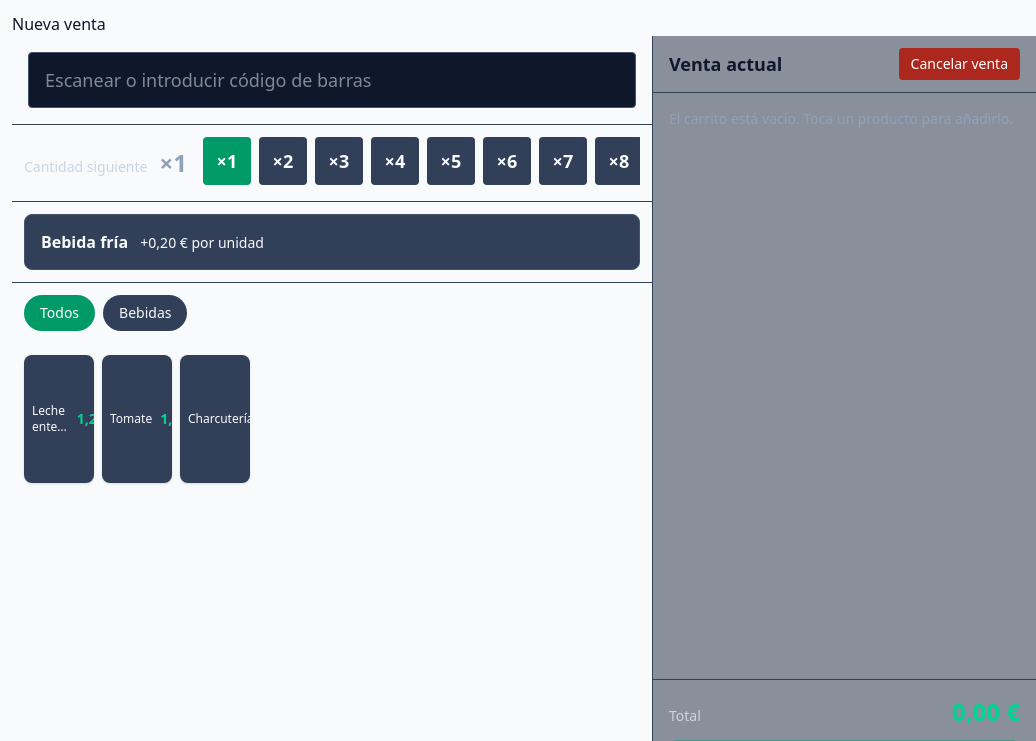
Test: PosHomePage › adds the configured cold-drink charge to the next selected item only
What coordinates should you click on to do the following:
click the button "Bebida fría +0,20 € por unidad"
I would click on:
 (85, 242)
Its box is [24,214,640,270].
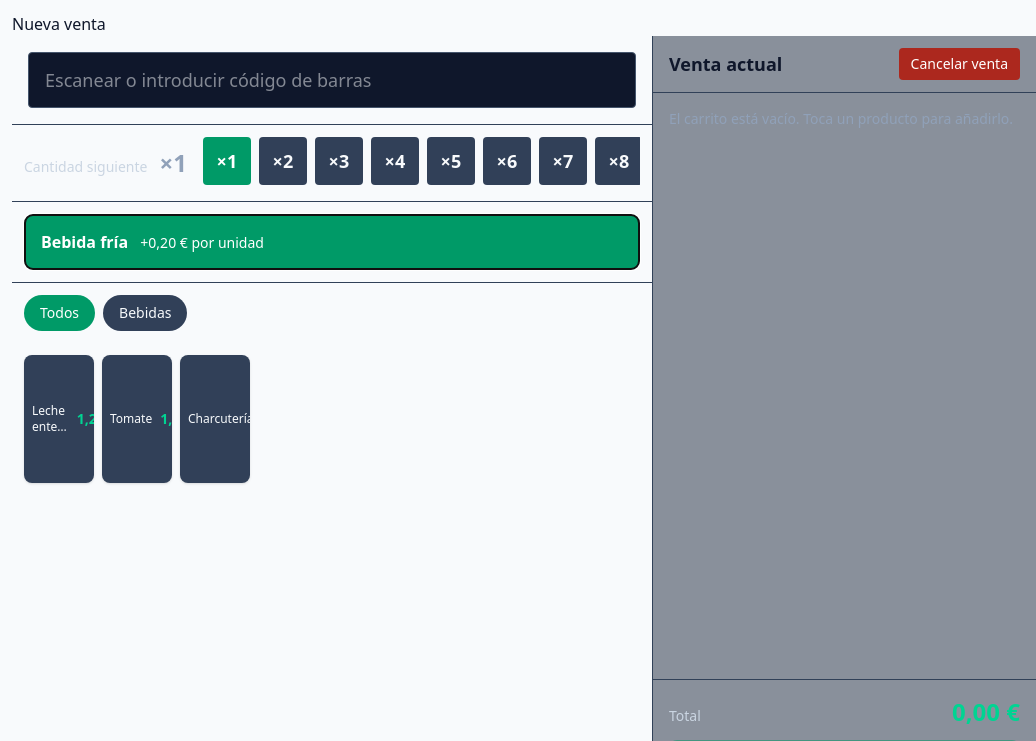
expect the button "Bebida fría +0,20 € por unidad" is pressed: met, box [24,214,640,270]
What coordinates should you click on to do the following:
click the button "Leche entera 1L 1,20 €"
I would click on:
 (59, 419)
Its box is [24,355,94,483].
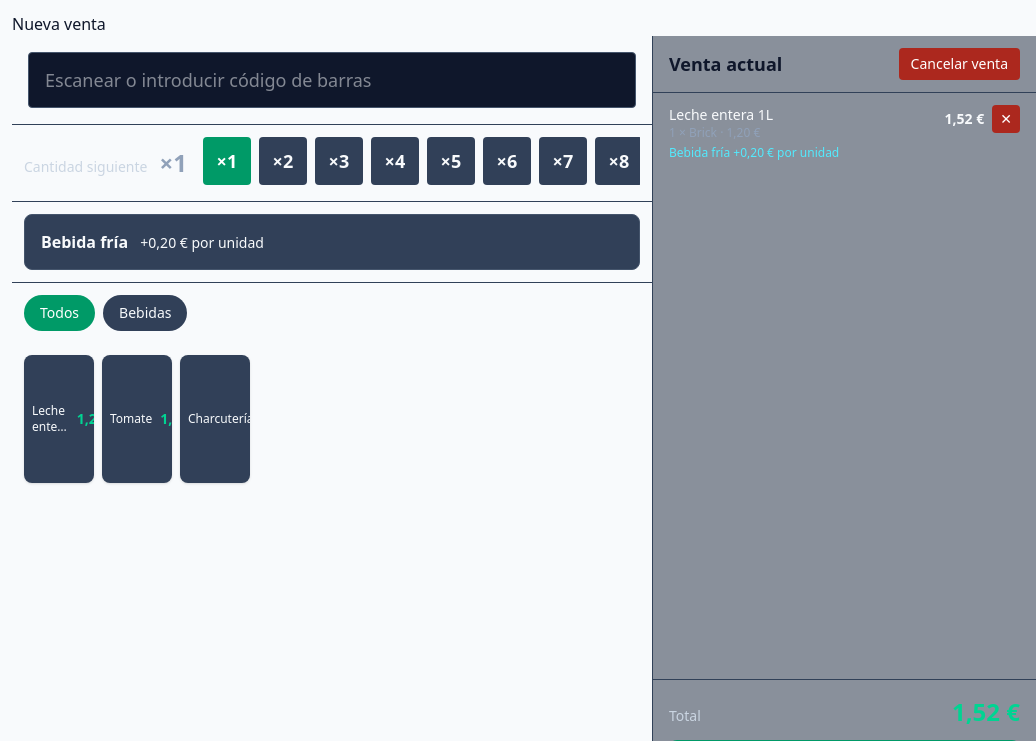
expect the text "Bebida fría +0,20 € por unidad" is shown: met, box [669,144,839,161]
